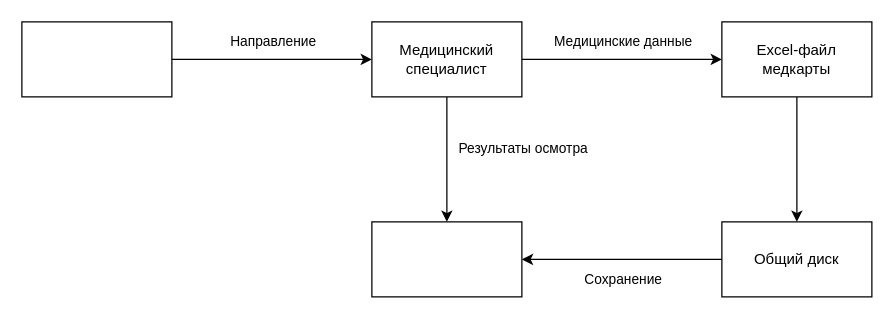
Image size: 894x319. Some labels were removed from this diagram. The shapes that lost their labels are listed below. From the top down, each one's centre as x and y in pixels, then its label:
(x=96, y=59): Ресепшен
(x=446, y=259): Сканы заключений
